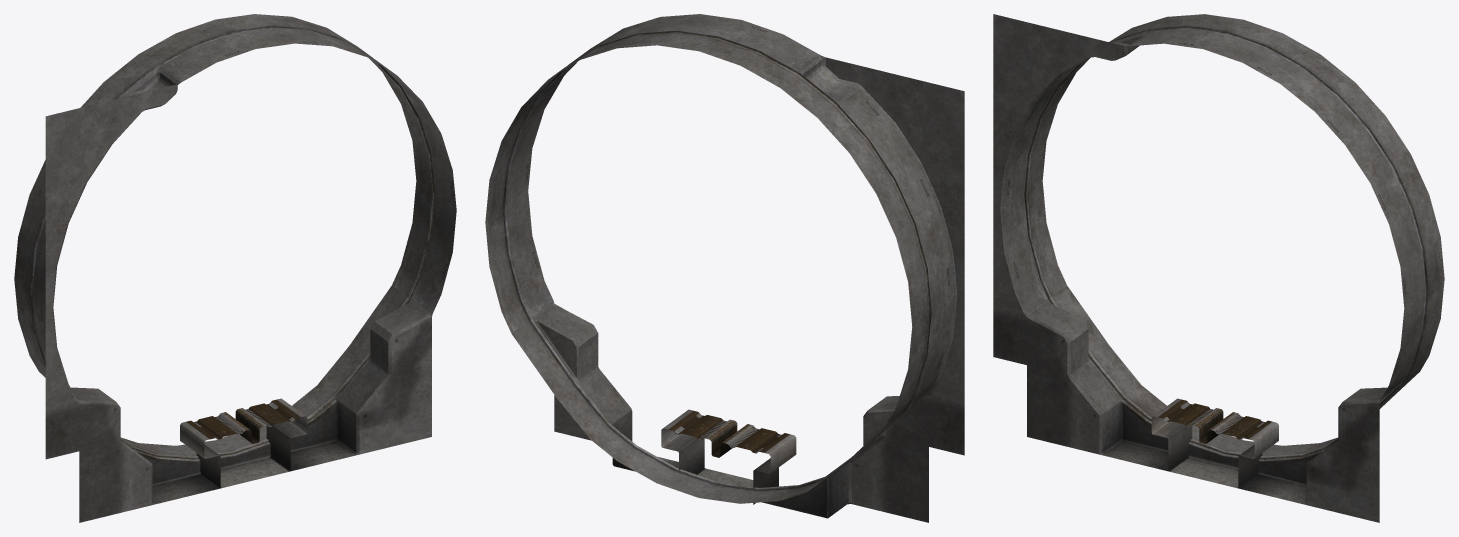
Rendered from theta_traintunnel_doorframe_left.dae.
The picture shows the model from 3 angles, left to right: view 1: azimuth 30°, elevation 25°; view 2: azimuth 150°, elevation 25°; view 3: azimuth 330°, elevation 25°; orthographic projection. The views are drawn at different scales.
Visible parts, largest first — view 1: polySurface1574, pCube32; view 2: polySurface1574, pCube32; view 3: polySurface1574, pCube32.
Part boxes in pixels (x1,y1,x2,y2): polySurface1574: (14,14,456,522); pCube32: (180,398,307,487); polySurface1574: (485,14,964,522); pCube32: (661,409,796,504); polySurface1574: (993,14,1444,522); pCube32: (1151,398,1278,487).
Size of the model in its own units: 5.87 by 5.88 by 1.
